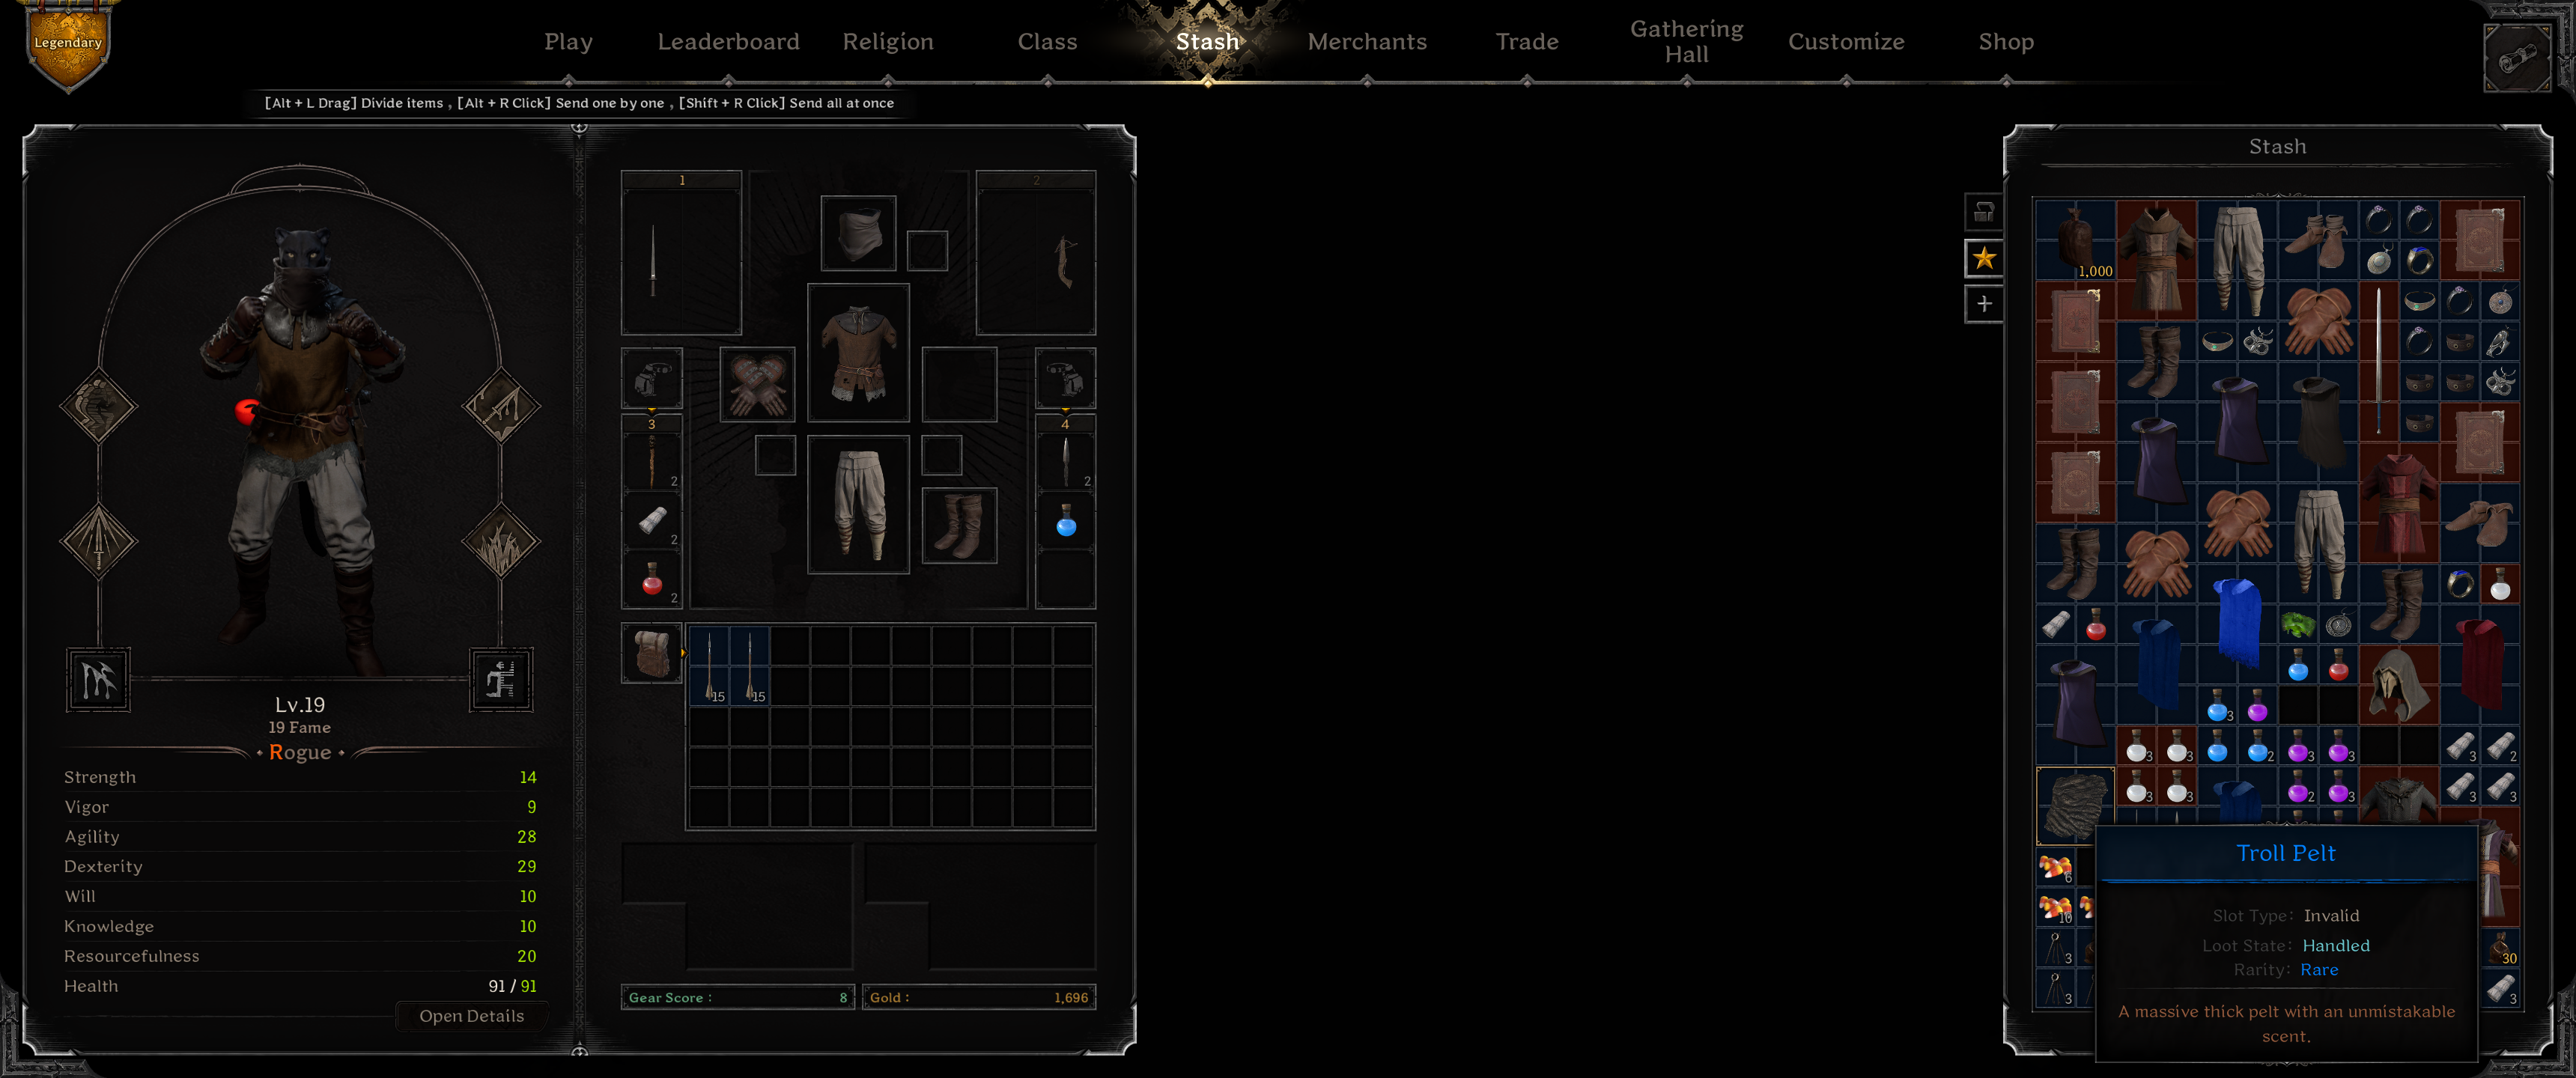Tooltip: (2093, 823, 2481, 1063)
